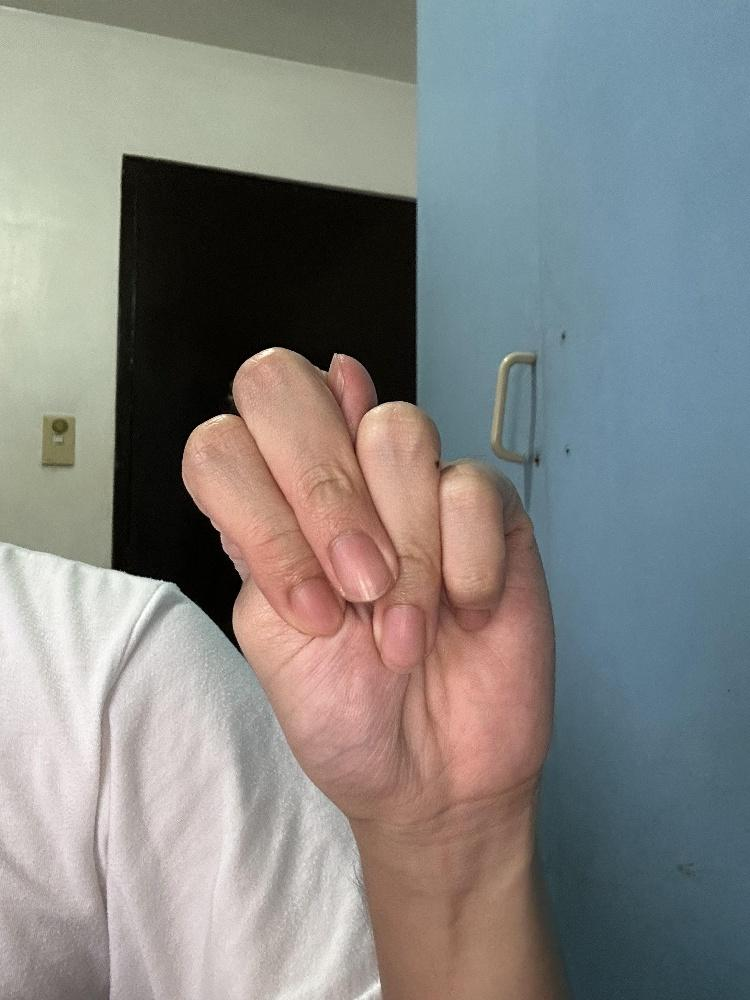n: (175, 342, 562, 829)
